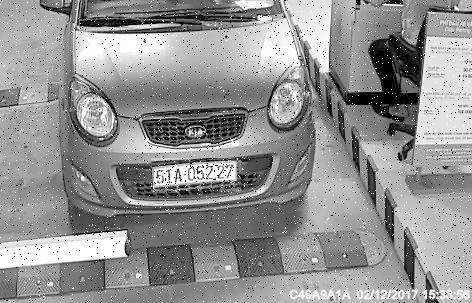License-plate: (153, 160, 244, 194)
